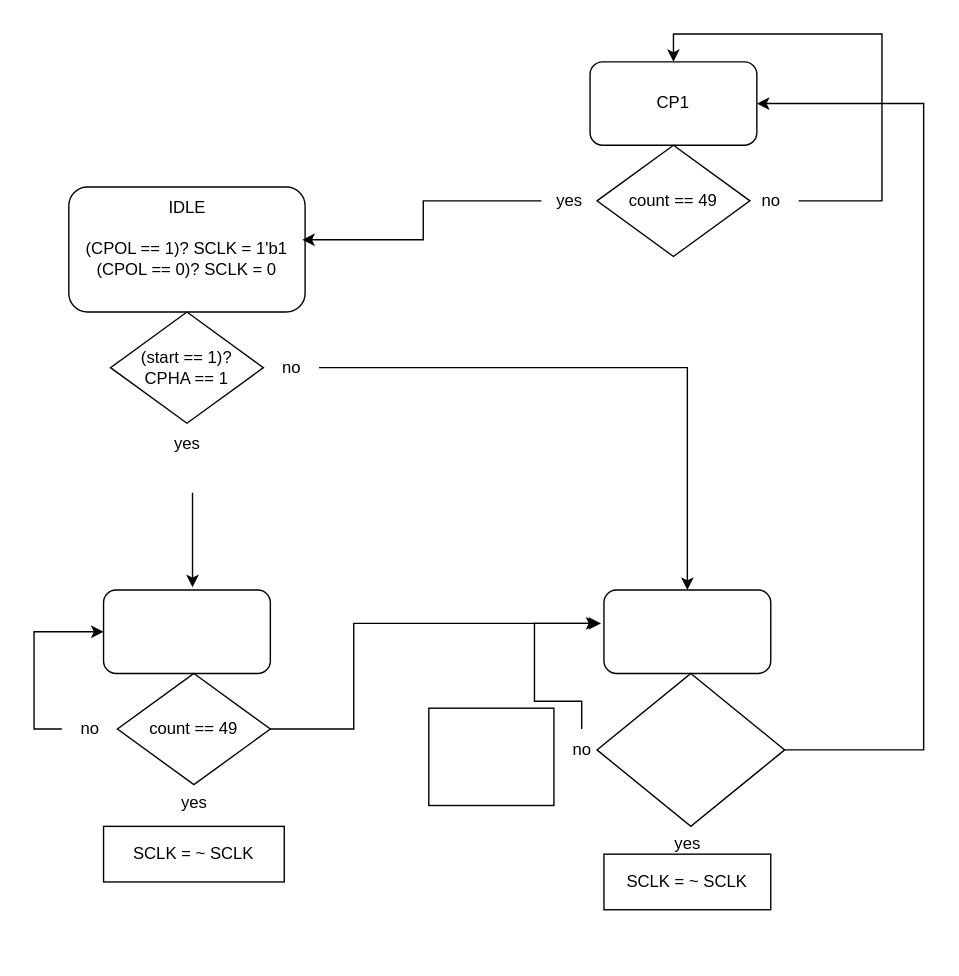
This 959x976 diagram has some shape labels left out. Here are the shapes that lost their labels. From the top down, the centre of each, then its label:
At point 186,631: "DELAY".
At point 687,631: "CP0".
At point 490,756: "if(count == 49?) Cycle_count ++".
At point 690,749: "count == 49 && Cycle_count == 7".
